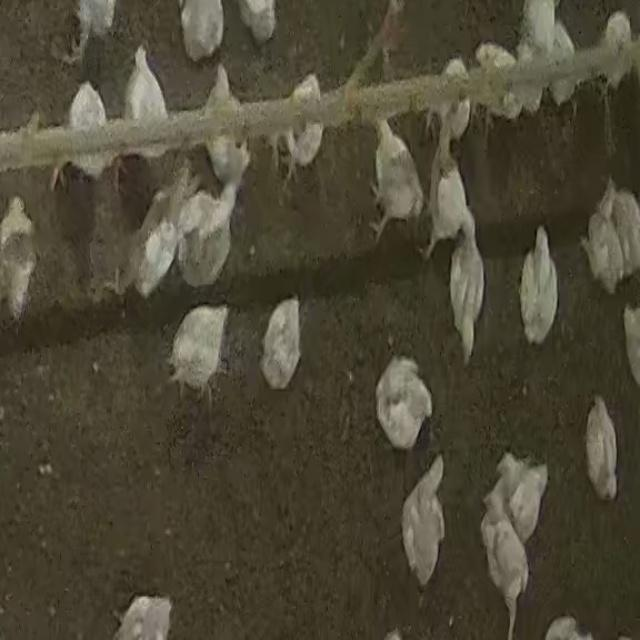chicken: (367, 114, 426, 247), (181, 170, 244, 288), (416, 120, 467, 260), (168, 301, 234, 407), (400, 454, 448, 590), (205, 65, 256, 181), (374, 355, 434, 453), (123, 41, 171, 160), (518, 222, 560, 348), (257, 291, 305, 396), (450, 232, 488, 363), (0, 196, 38, 322), (286, 69, 326, 187), (584, 397, 620, 505)
